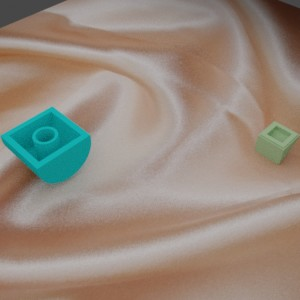lego: (0, 106, 91, 183), (254, 121, 300, 164)
